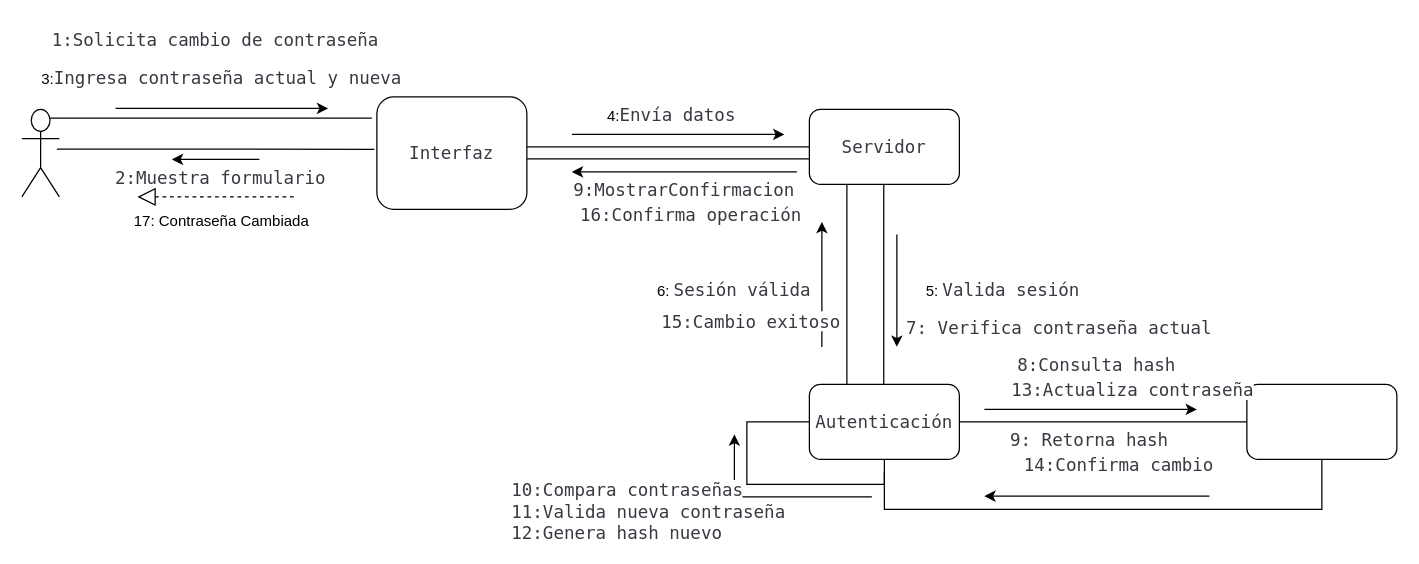
Some shapes in this 1419 by 564 pixel diagram are drawn without their labels. The shapes that lost their labels are listed below. From the top down, each one's box as (x1, y1, x2, y2) in pixels, then its label:
(21, 108, 59, 197): Actor
(1246, 383, 1397, 459): Base de Datos
